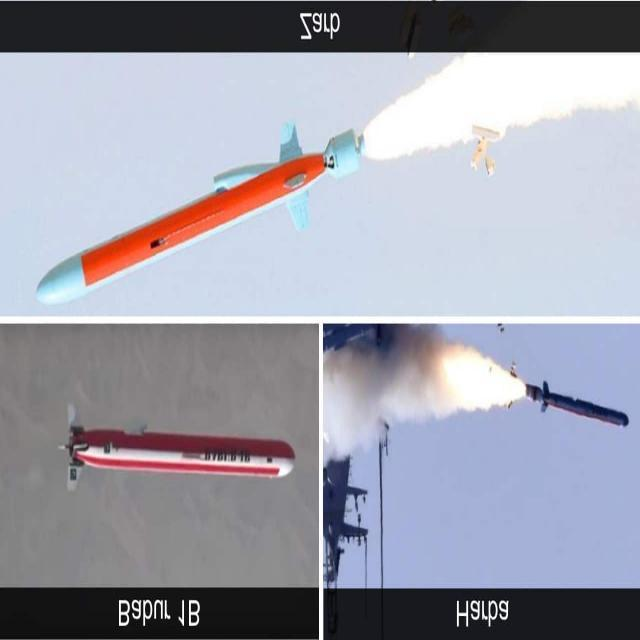Missile: (29, 117, 370, 309), (56, 411, 301, 496), (516, 380, 631, 441)
